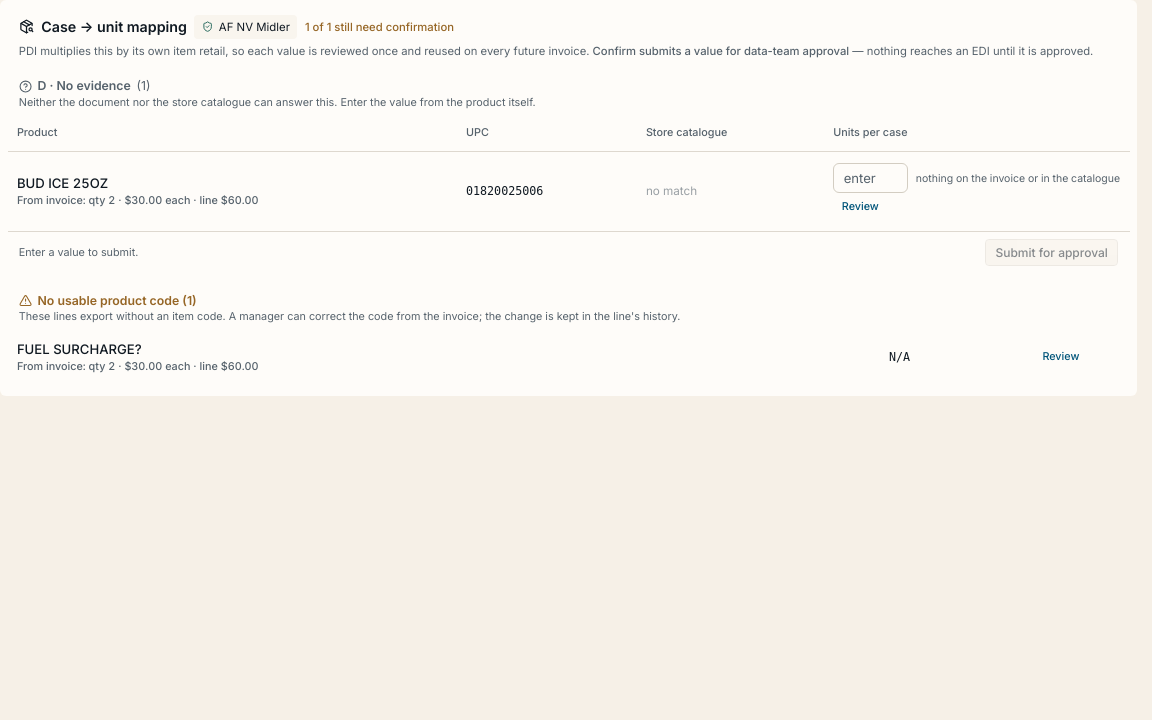
Test case: case-mapping card › opens the review panel for a line and lists lines without a usable code
Expected: the element with test id "codeless-lines" shows "No usable product code (1)", x1=8 y1=292 x2=1130 y2=385
Expected: the element with test id "codeless-lines" shows "FUEL SURCHARGE?", x1=17 y1=341 x2=142 y2=357
Click the button with aria-label "Review line 6: FUEL SURCHARGE?" at (1061, 357), box x1=1034 y1=344 x2=1088 y2=370
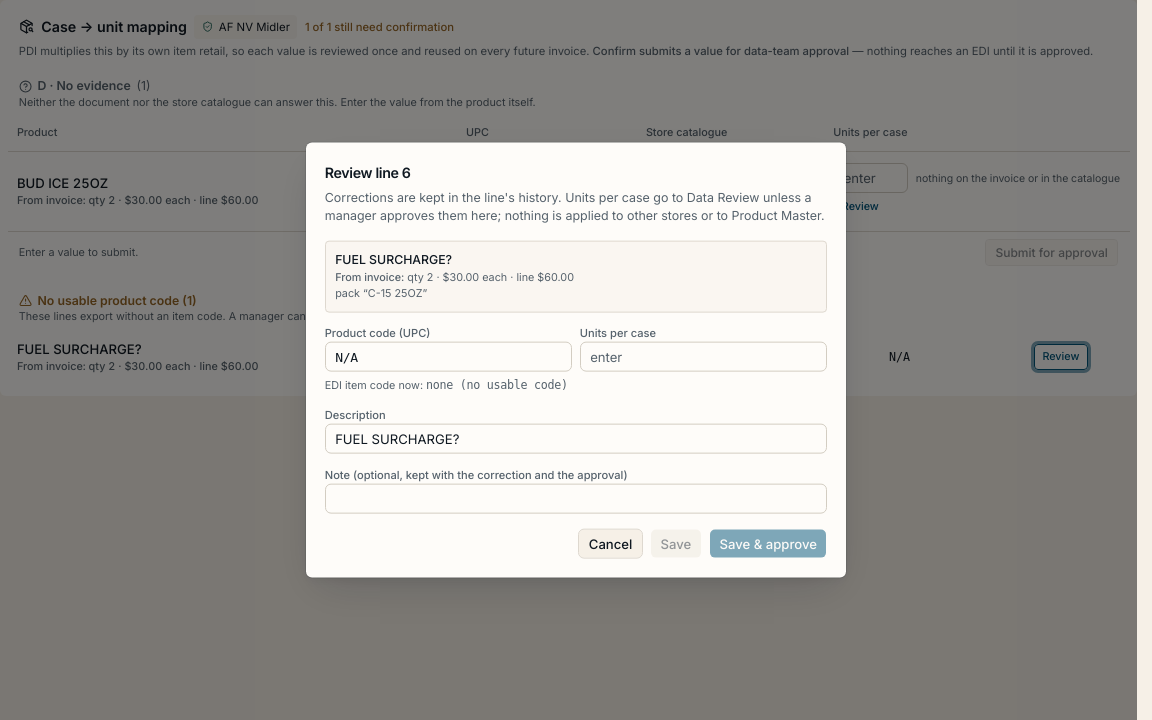
Expected: the dialog with test id "line-review-panel" shows "Review line 6", x1=306 y1=143 x2=846 y2=577
Expected: the text "EDI item code now: none (no usable code)" is shown, x1=325 y1=379 x2=568 y2=392
